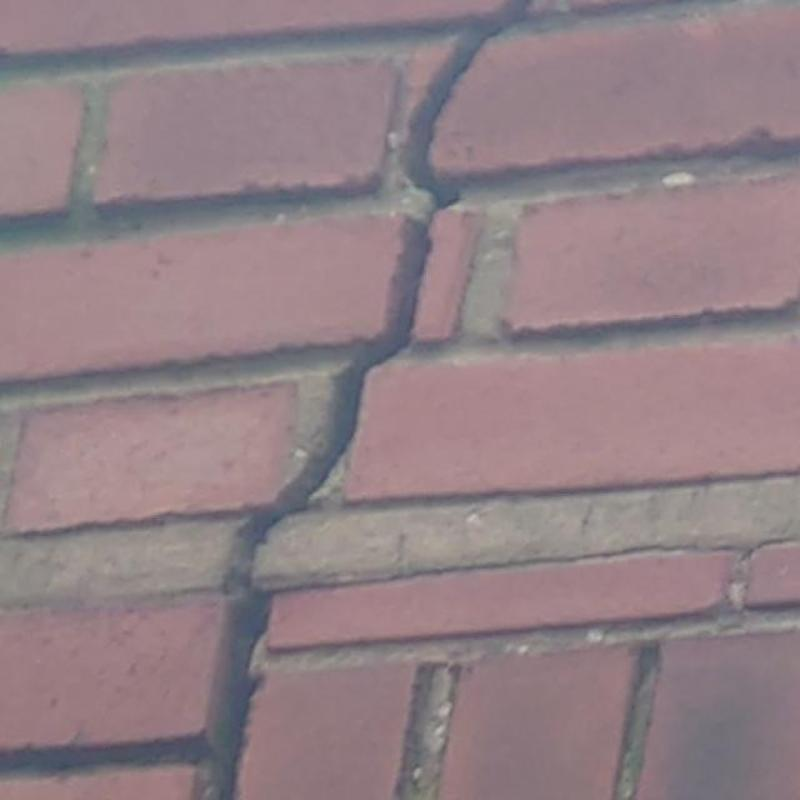pothole: (194, 0, 529, 800)
